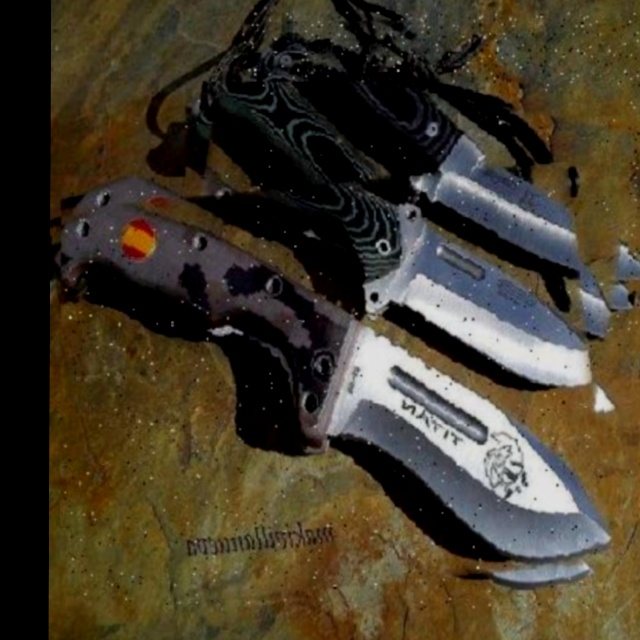Sharp-Object: (59, 177, 605, 612), (184, 81, 631, 436), (241, 12, 640, 325)
